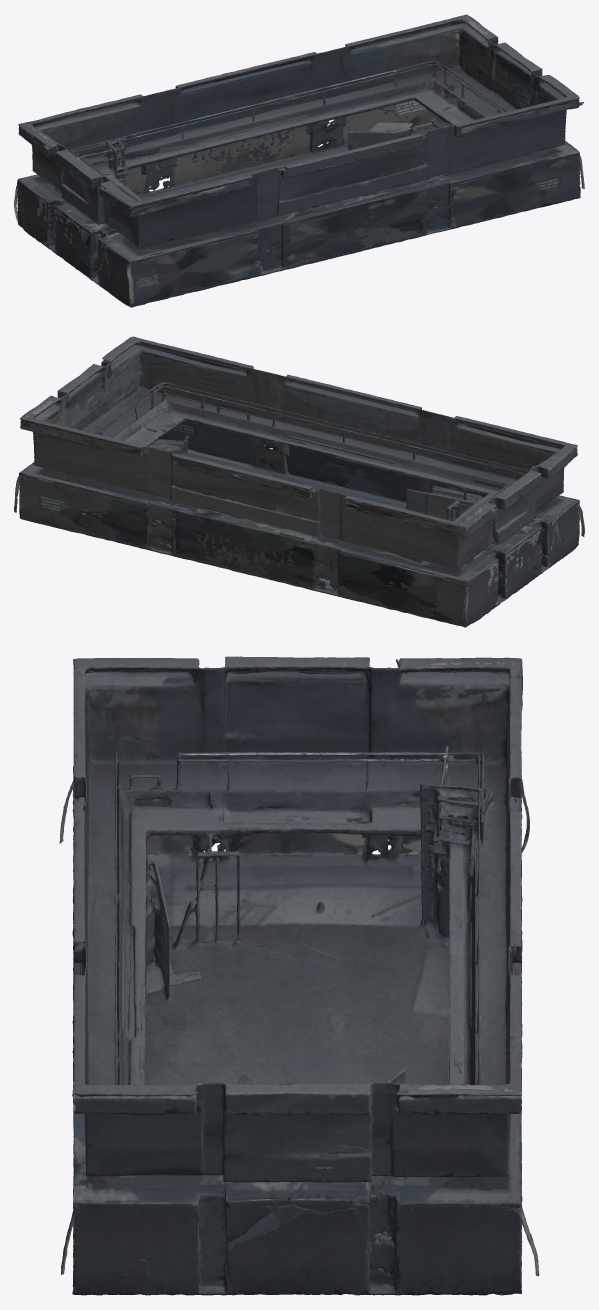
3 renders of one model, top to bottom at view 1: azimuth 30°, elevation 25°; view 2: azimuth 150°, elevation 25°; view 3: azimuth 270°, elevation 25°, orthographic. The views are drawn at different scales.
Visible parts, largest first — view 1: input; view 2: input; view 3: input.
Part boxes in pixels (<box>): input: <box>14,14,584,307</box>; input: <box>14,336,584,627</box>; input: <box>59,656,539,1295</box>.
Bounding box in the file's own units: 7.17 × 1.53 × 3.27.
1 material, 1 textured.
